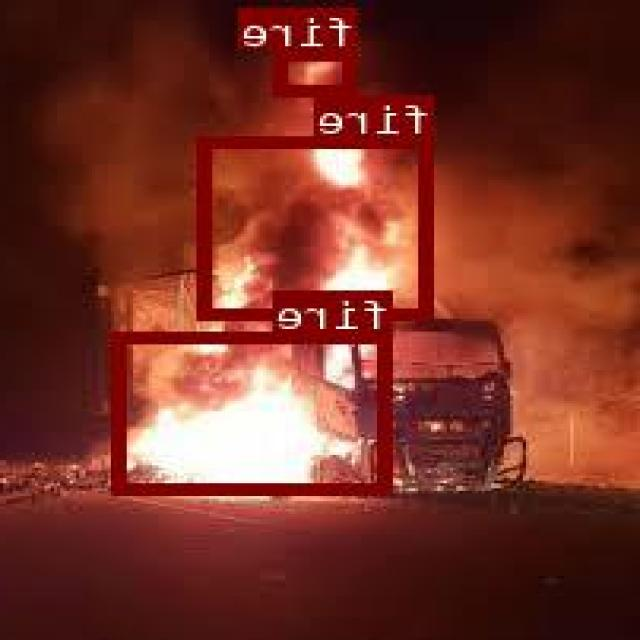fire: (117, 330, 393, 493), (201, 136, 436, 316), (278, 48, 360, 95)
